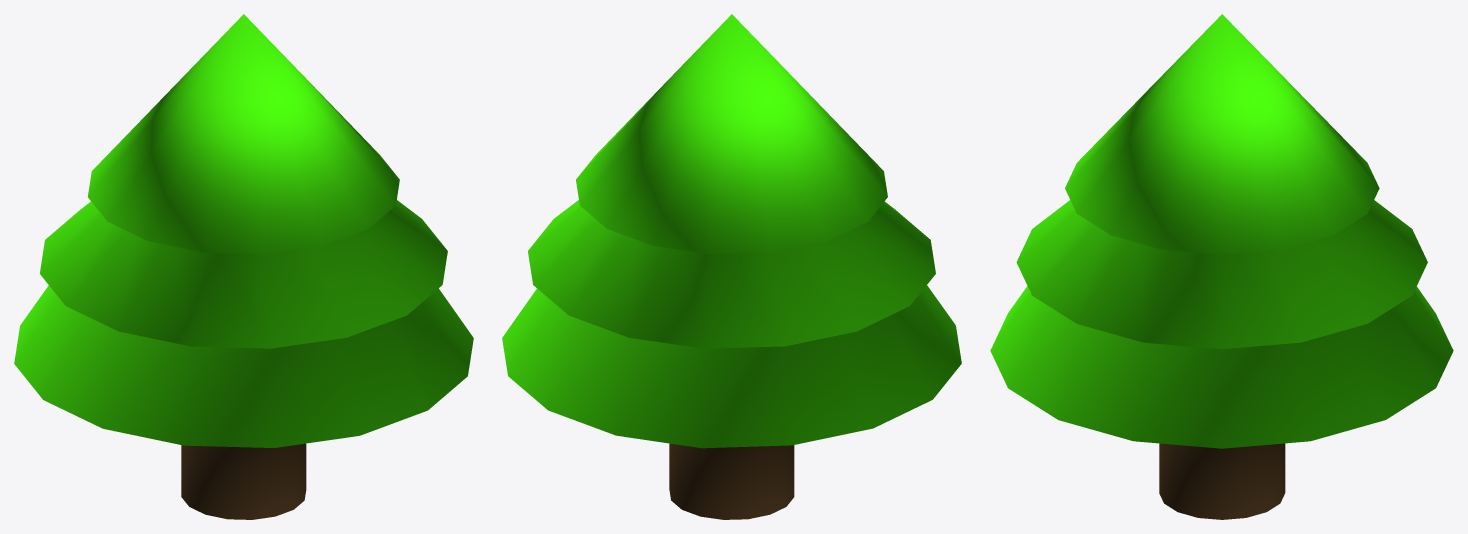
The model's file is tree.fbx.
3 renders of one model, left to right at view 1: azimuth 30°, elevation 25°; view 2: azimuth 150°, elevation 25°; view 3: azimuth 270°, elevation 25°, orthographic.
Visible parts, largest first — view 1: Cylinder; view 2: Cylinder; view 3: Cylinder.
Part boxes in pixels (x1=…): Cylinder: x1=14, y1=14, x2=473, y2=519; Cylinder: x1=502, y1=14, x2=961, y2=519; Cylinder: x1=990, y1=14, x2=1453, y2=519.
Size of the model in its own units: 147 by 147 by 168.
